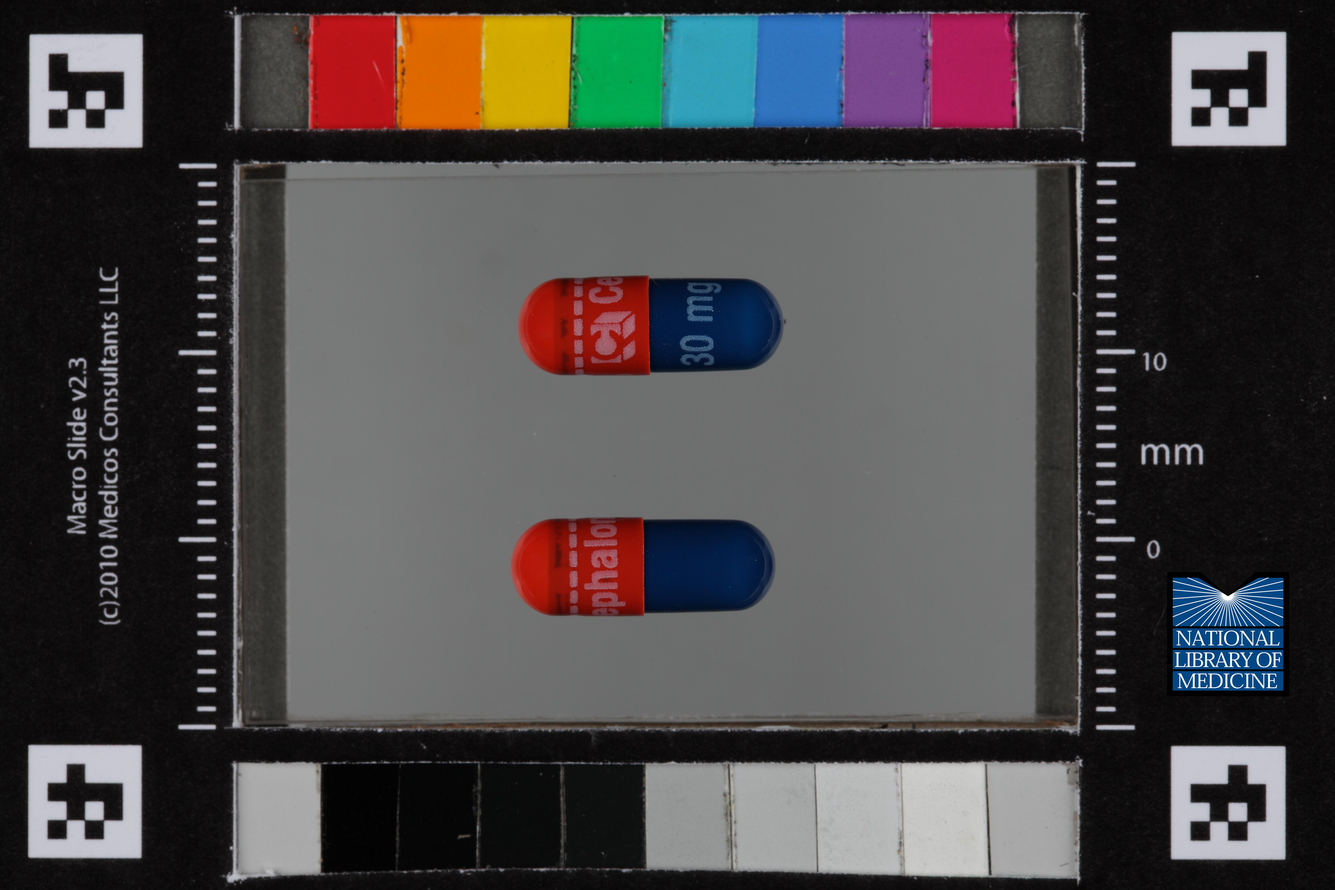Pill: (509, 259, 796, 390), (504, 504, 794, 626)
